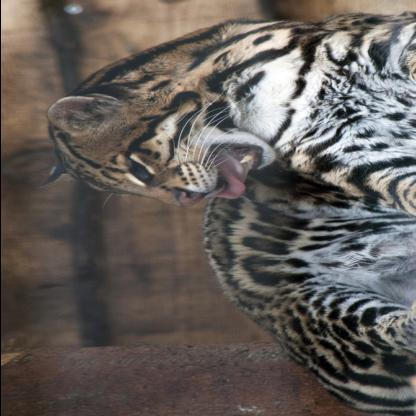leopard: (42, 90, 272, 210)
